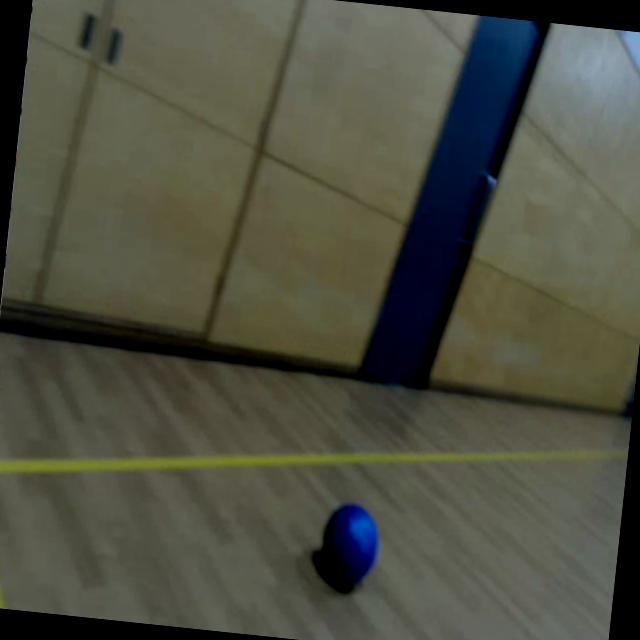blue_ball: (318, 500, 381, 583)
